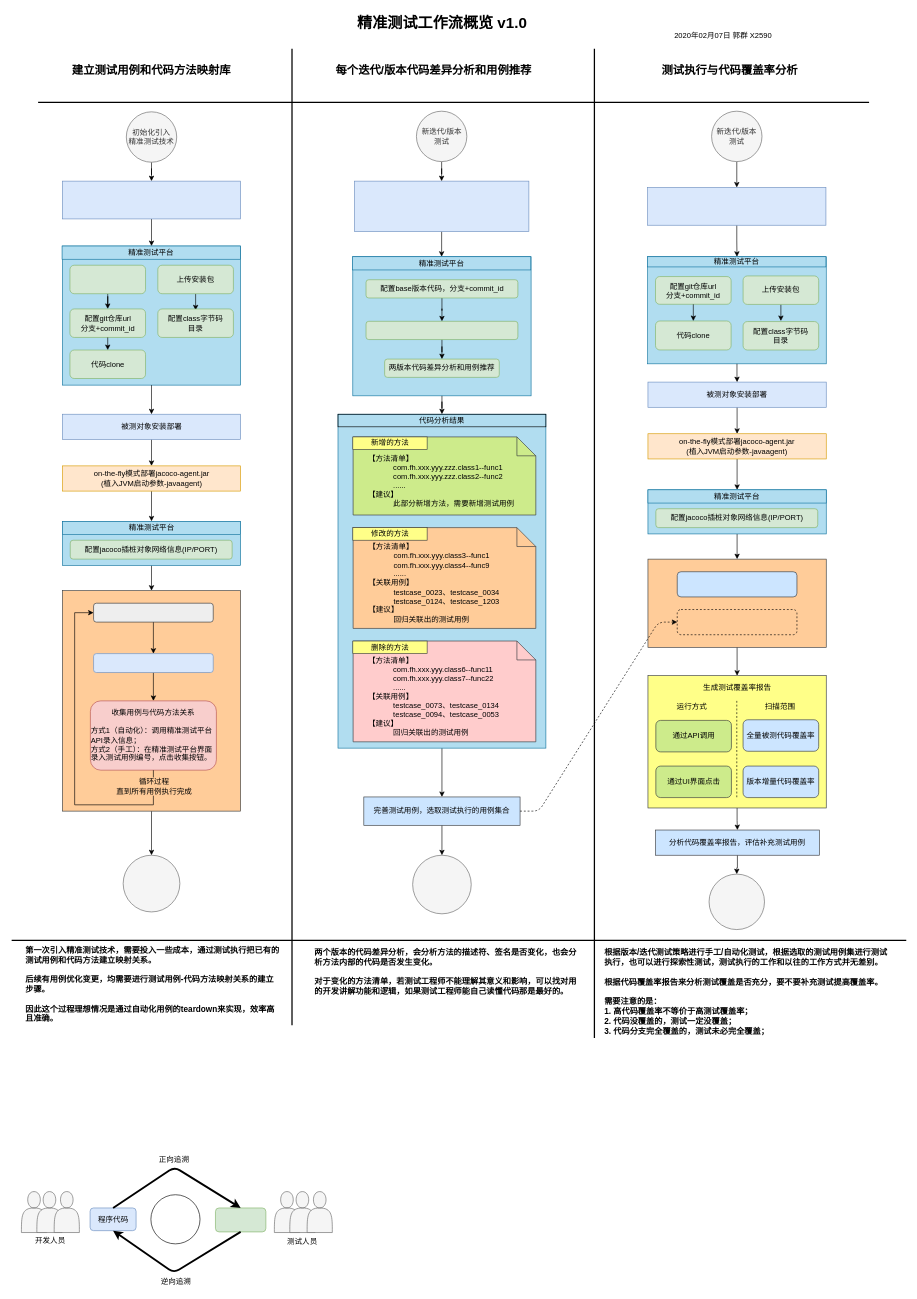
This 917x1299 diagram has some shape labels left out. The centre of each missing label's shape, as x and y in pixels:
"一条测试用例，编号：TC_0001" goes at point 153,612.
"代码差异分析 和 用例推荐 完毕" goes at point 441,884.
"测试执行 覆盖率 完毕" goes at point 736,901.
"测试用例" goes at point 240,1219.
"测试用例与 代码方法 映射关系建立 完毕" goes at point 151,883.
"测试用例执行" goes at point 737,584.
"测试用例执行开始--->执行结束" goes at point 153,663.
"研发提测 1. 待测安装包 2. 上一版本测试通过的git仓库分支和commit_id 3. 当前版本git仓库分支和commit_id" goes at point 441,206.
"研发提测 1. 待测安装包 2. 当前版本git仓库分支和commit_id" goes at point 151,199.
"研发提测 1. 待测安装包 2. 提测版本git仓库分支和commit_id" goes at point 736,206.
"精准 分析" goes at point 175,1219.
"配置current版本代码，分支+commit_id" goes at point 441,330.
"配置项目GitLab 认证信息" goes at point 107,279.
"（可选）收集和更新 用例与测试代码方法关系" goes at point 737,622.
